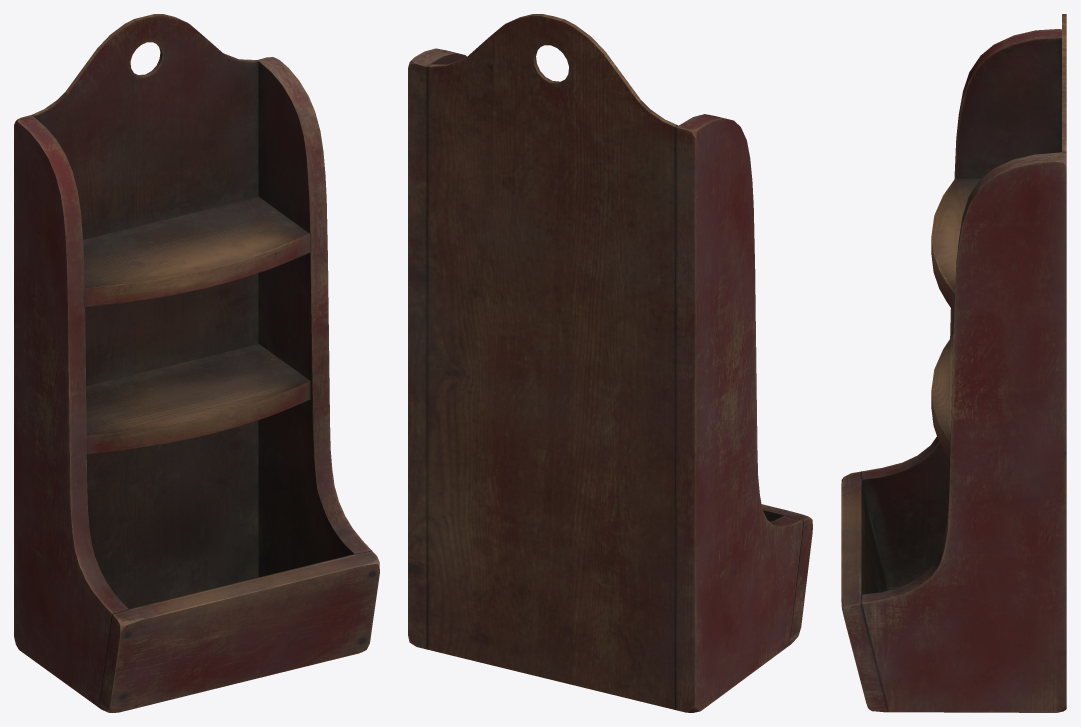
File: painted_wooden_shelves.glb
The picture shows the model from 3 angles, left to right: view 1: azimuth 30°, elevation 25°; view 2: azimuth 150°, elevation 25°; view 3: azimuth 270°, elevation 25°; orthographic projection. The views are drawn at different scales.
Visible parts, largest first — view 1: painted_wooden_shelves; view 2: painted_wooden_shelves; view 3: painted_wooden_shelves.
Boxes of the visible parts, x1,y1,x2,y2 form: painted_wooden_shelves: [14, 14, 379, 712]; painted_wooden_shelves: [408, 14, 812, 712]; painted_wooden_shelves: [841, 14, 1066, 712].
Bounding box in the file's own units: 0.5111 × 1.13 × 0.3671.
1 material, 1 textured.
